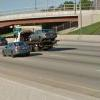Car: (2, 39, 34, 61)
